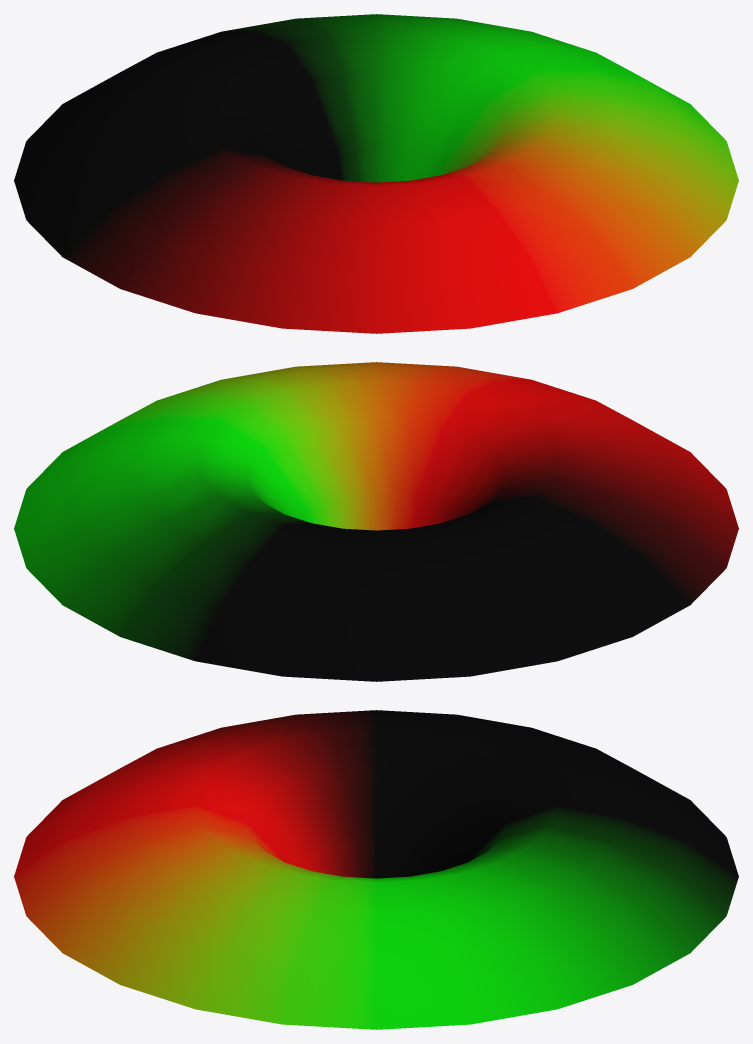
Rendered from uni_hole.fbx.
3 renders of one model, top to bottom at view 1: azimuth 30°, elevation 25°; view 2: azimuth 150°, elevation 25°; view 3: azimuth 270°, elevation 25°, orthographic.
Visible parts, largest first — view 1: uni_hole; view 2: uni_hole; view 3: uni_hole.
Boxes of the visible parts, x1=… form: uni_hole: x1=14, y1=14, x2=738, y2=333; uni_hole: x1=14, y1=362, x2=738, y2=681; uni_hole: x1=14, y1=710, x2=738, y2=1029.
Bounding box in the file's own units: 22400 × 22400 × 4800.
